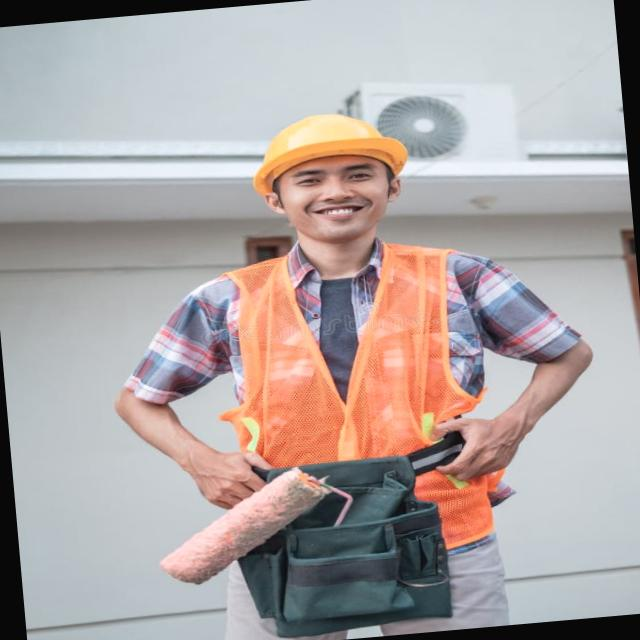helmet: (235, 102, 416, 187)
no-goggles: (268, 156, 400, 199)
vest: (208, 231, 512, 570)
